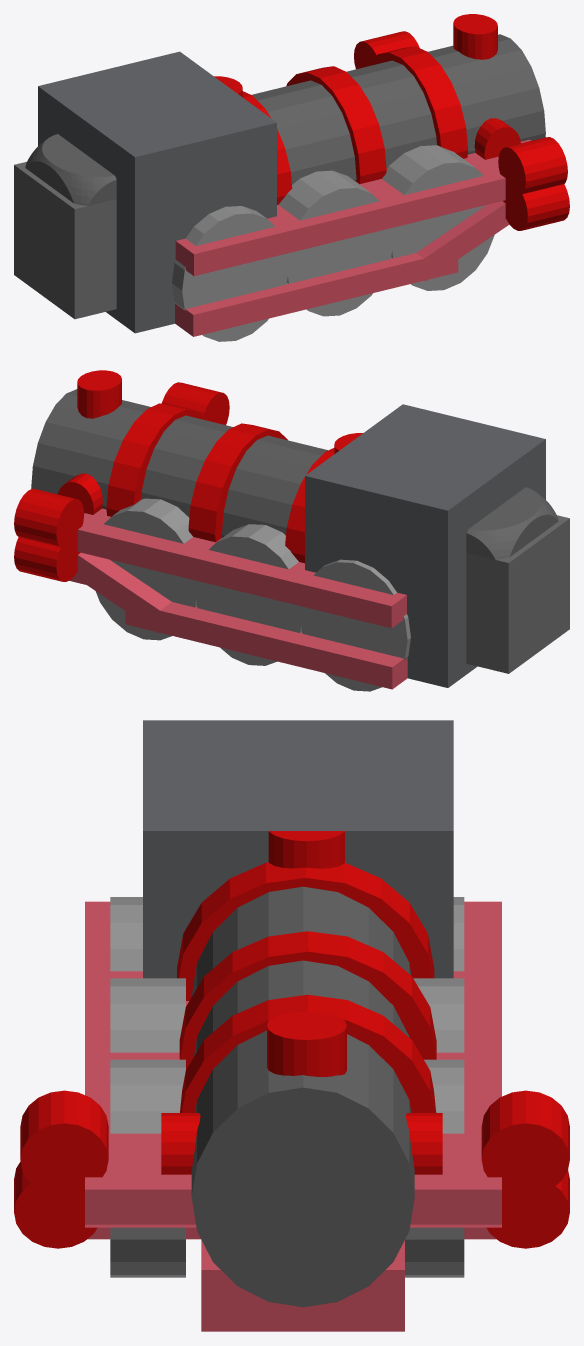
File: train.glb
3 views of the same model, one above another, from view 1: azimuth 30°, elevation 25°; view 2: azimuth 150°, elevation 25°; view 3: azimuth 270°, elevation 25° (orthographic). The views are drawn at different scales.
Parts seen in each view (by area): view 1: Mesh_Mesh_head_geo.001_lambert2SG.001; view 2: Mesh_Mesh_head_geo.001_lambert2SG.001; view 3: Mesh_Mesh_head_geo.001_lambert2SG.001.
Boxes of the visible parts, bbox=[...] form: Mesh_Mesh_head_geo.001_lambert2SG.001: bbox=[14, 14, 569, 341]; Mesh_Mesh_head_geo.001_lambert2SG.001: bbox=[14, 370, 569, 691]; Mesh_Mesh_head_geo.001_lambert2SG.001: bbox=[14, 720, 569, 1331].
Bounding box in the file's own units: 89 × 36 × 57.31.
